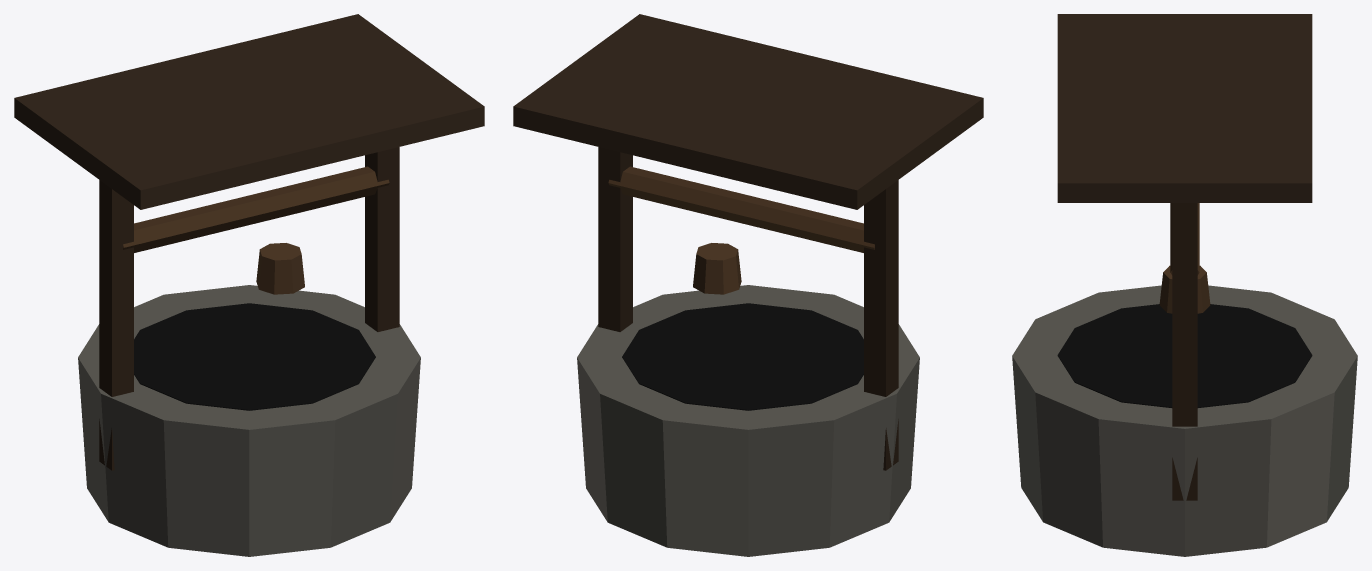
The model's file is well.glb.
3 renders of one model, left to right at view 1: azimuth 30°, elevation 25°; view 2: azimuth 150°, elevation 25°; view 3: azimuth 270°, elevation 25°, orthographic.
Visible parts, largest first — view 1: Well; view 2: Well; view 3: Well.
Part boxes in pixels (x1=…): Well: x1=14, y1=14, x2=484, y2=556; Well: x1=513, y1=14, x2=983, y2=556; Well: x1=1012, y1=14, x2=1357, y2=556.
Size of the model in its own units: 2.2 by 2.36 by 1.9.
